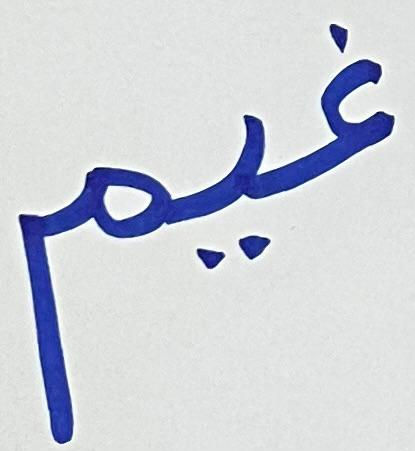ghain: (298, 11, 403, 198)
meem: (0, 146, 183, 446)
yeh: (187, 113, 288, 272)
